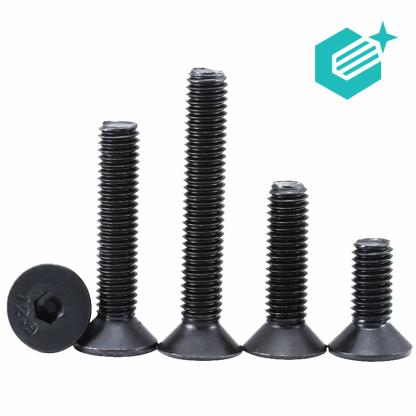FOD: (158, 67, 245, 364), (74, 117, 157, 359), (241, 178, 334, 361), (328, 234, 414, 362), (6, 260, 92, 356)
